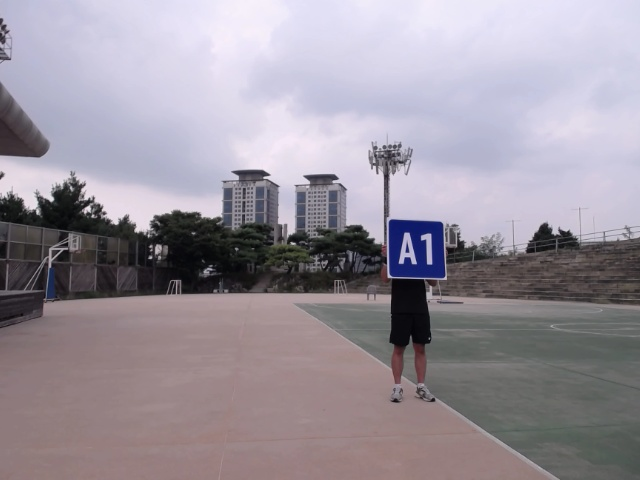delivery_a1: (388, 218, 445, 279)
